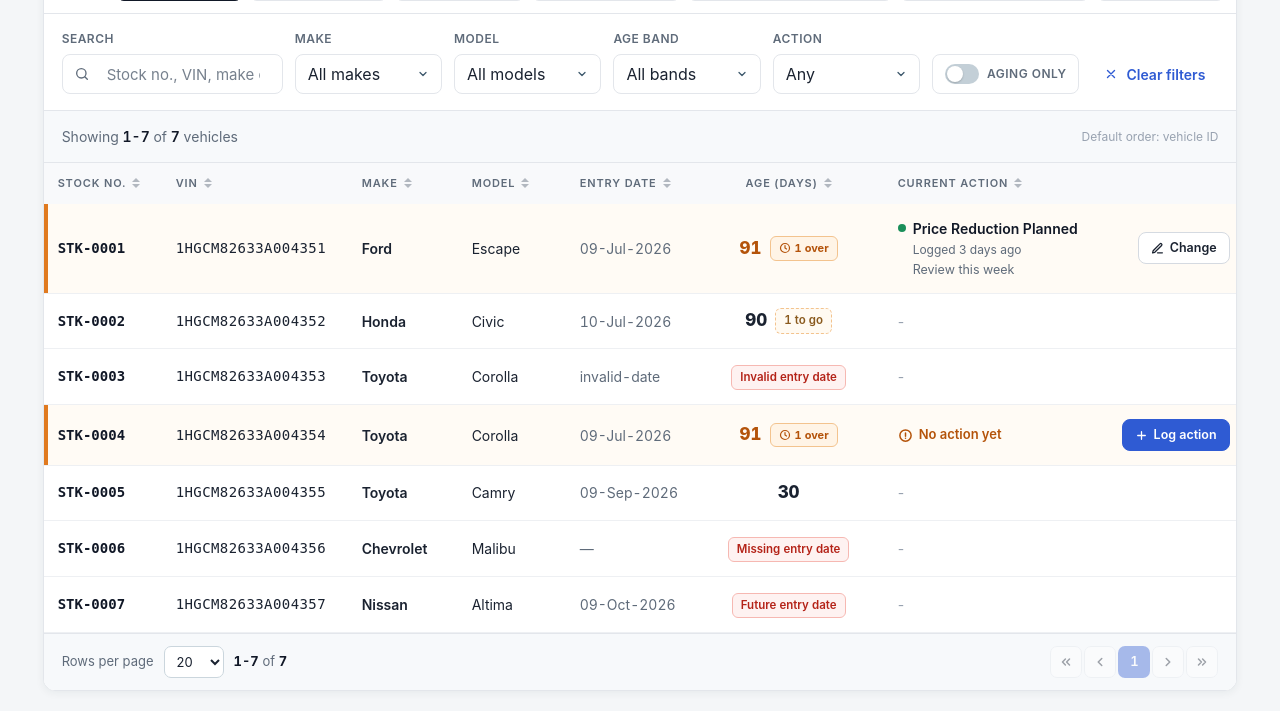
App › confirms a successful save and displays its logged age from the injected clock
The width and height of the screenshot is (1280, 711).
(page scrolled)
Click the button "Log action" at coordinates (1176, 435), box [1122,419,1230,451]
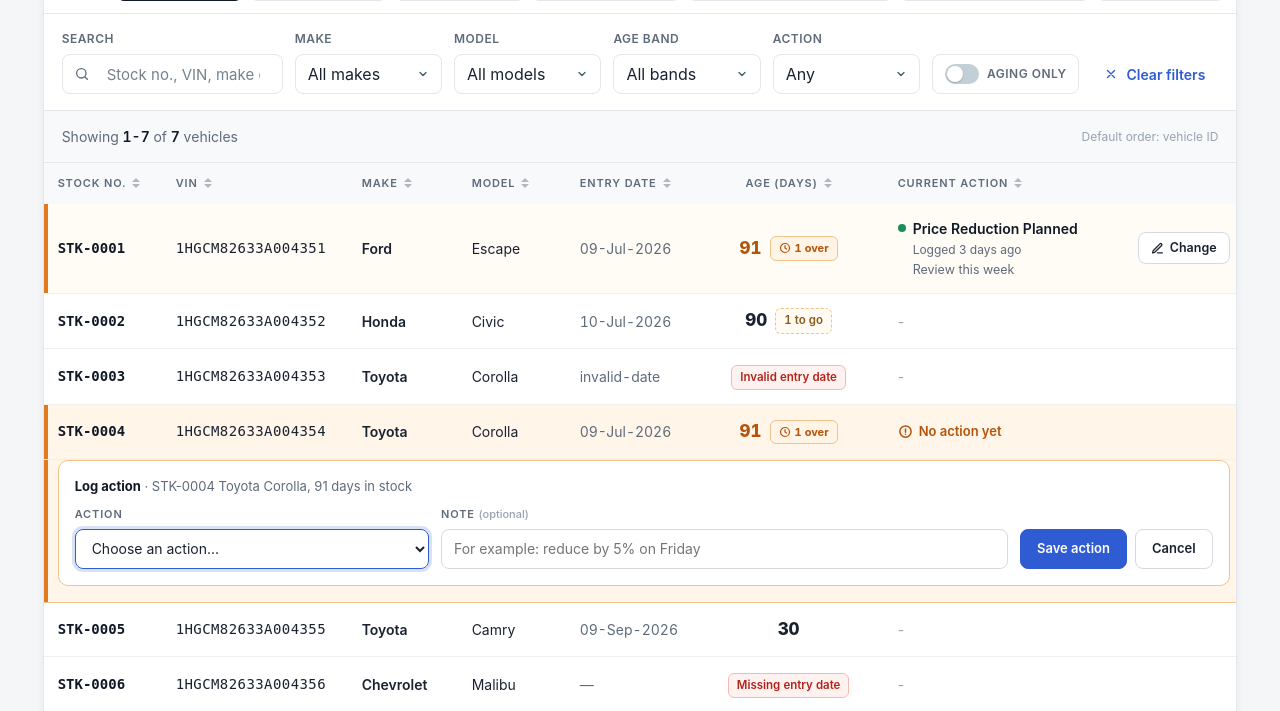
Select "Price Reduction Planned" in the dropdown labelled "Action" below "Note" at coordinates (252, 548), box [75,528,429,568]
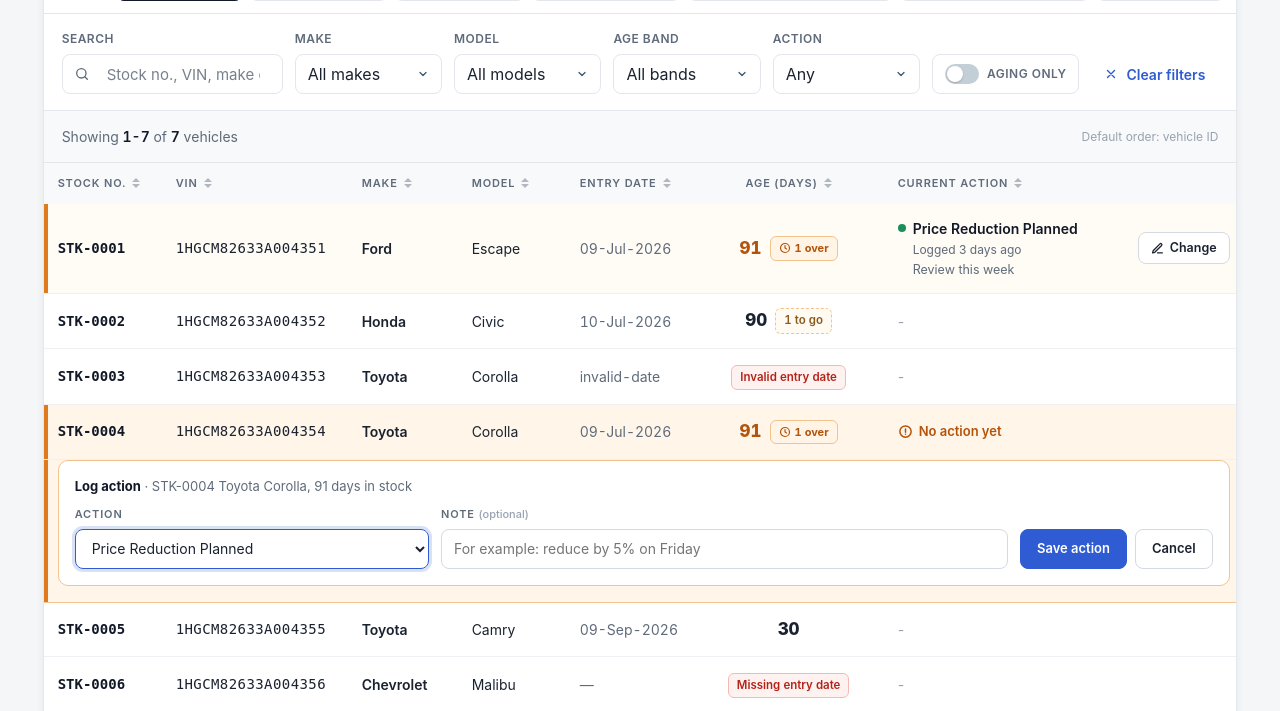
Click the button "Save action" at coordinates (1074, 548), box [1020,528,1127,568]
(page scrolled)
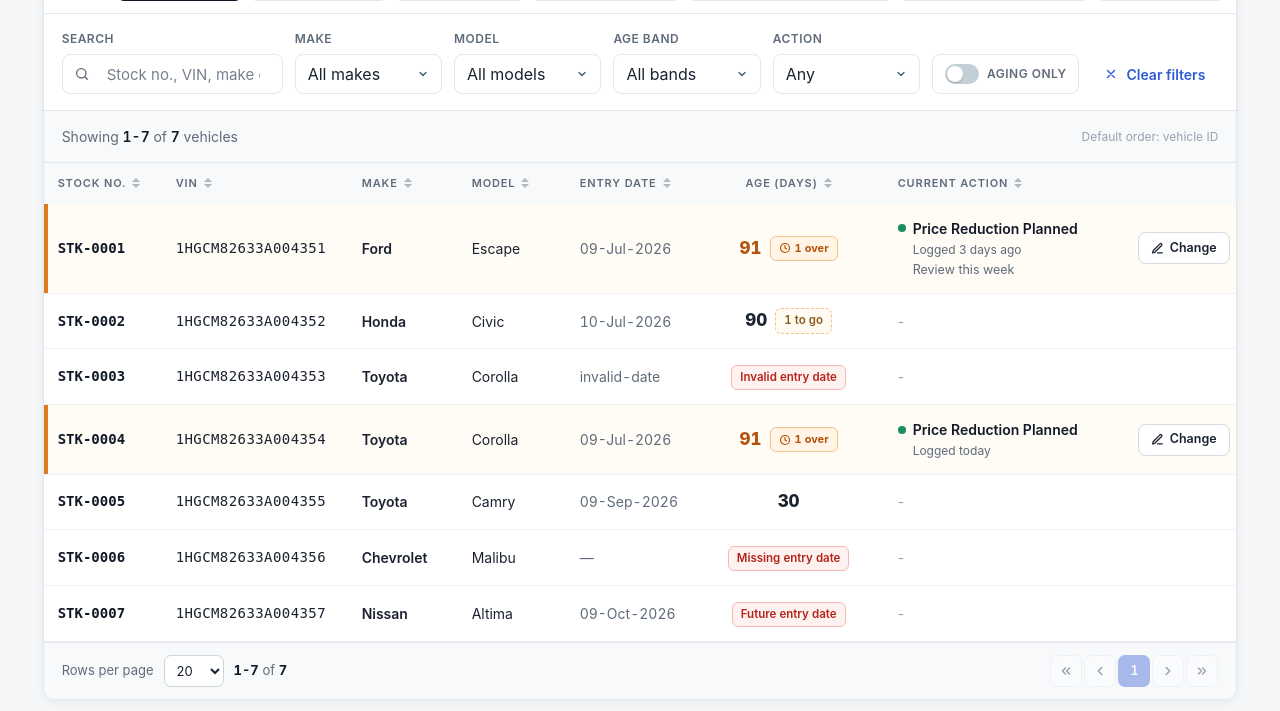
expect the text "Logged 3 days ago" is shown: met, box [898,240,1022,258]
expect the row "STK-0004" shows "Logged today": met, box [913,443,991,458]
